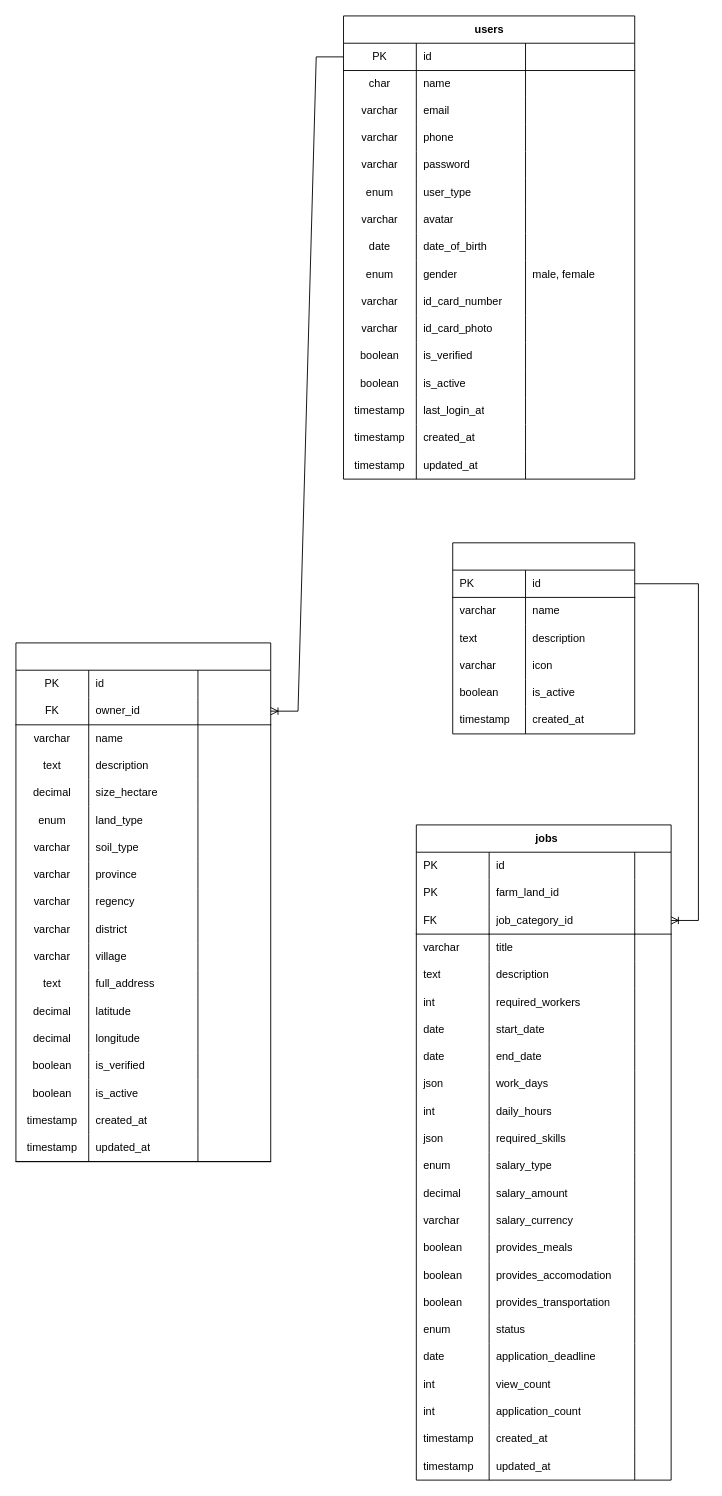
Some shapes in this 722 by 1496 pixel diagram are drawn without their labels. The box of each missing label's shape, as (x1, y1, x2, y2) in pixels:
farm_lands: (15, 642, 271, 1162)
job_categories: (452, 542, 635, 734)
